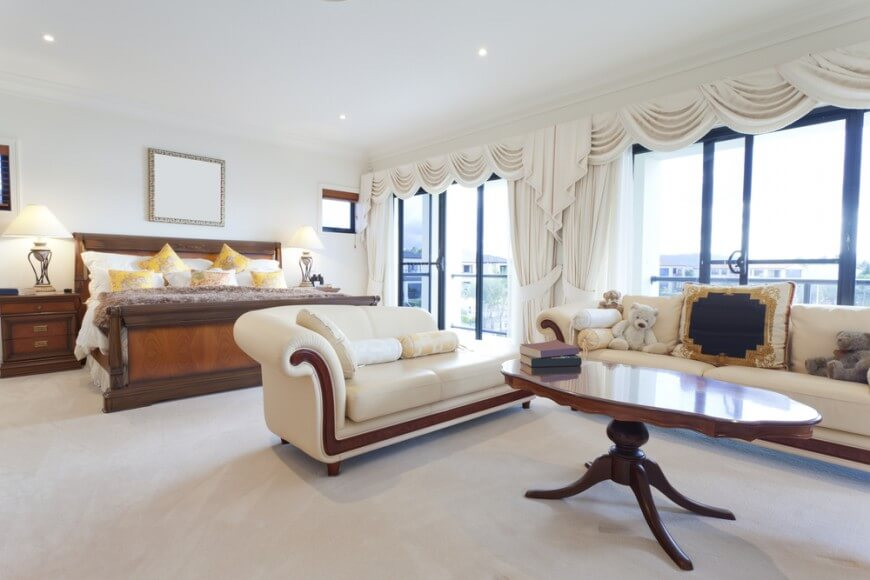chairs: (538, 282, 870, 473), (233, 302, 532, 478)
